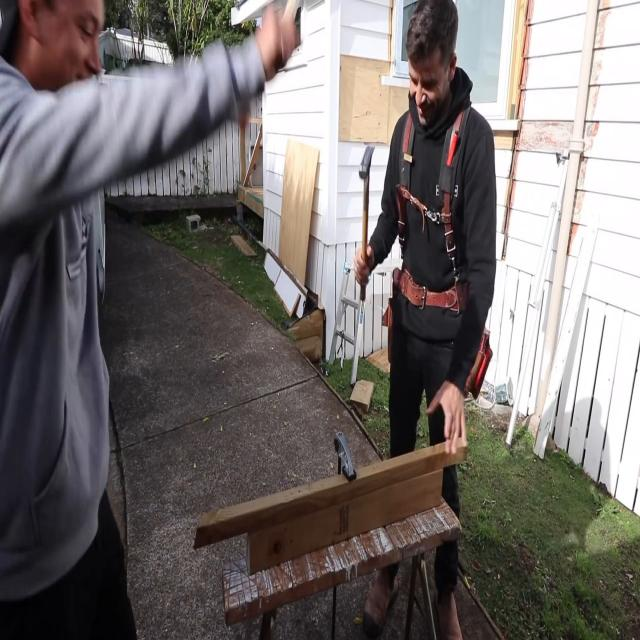hammer: (358, 141, 374, 302)
